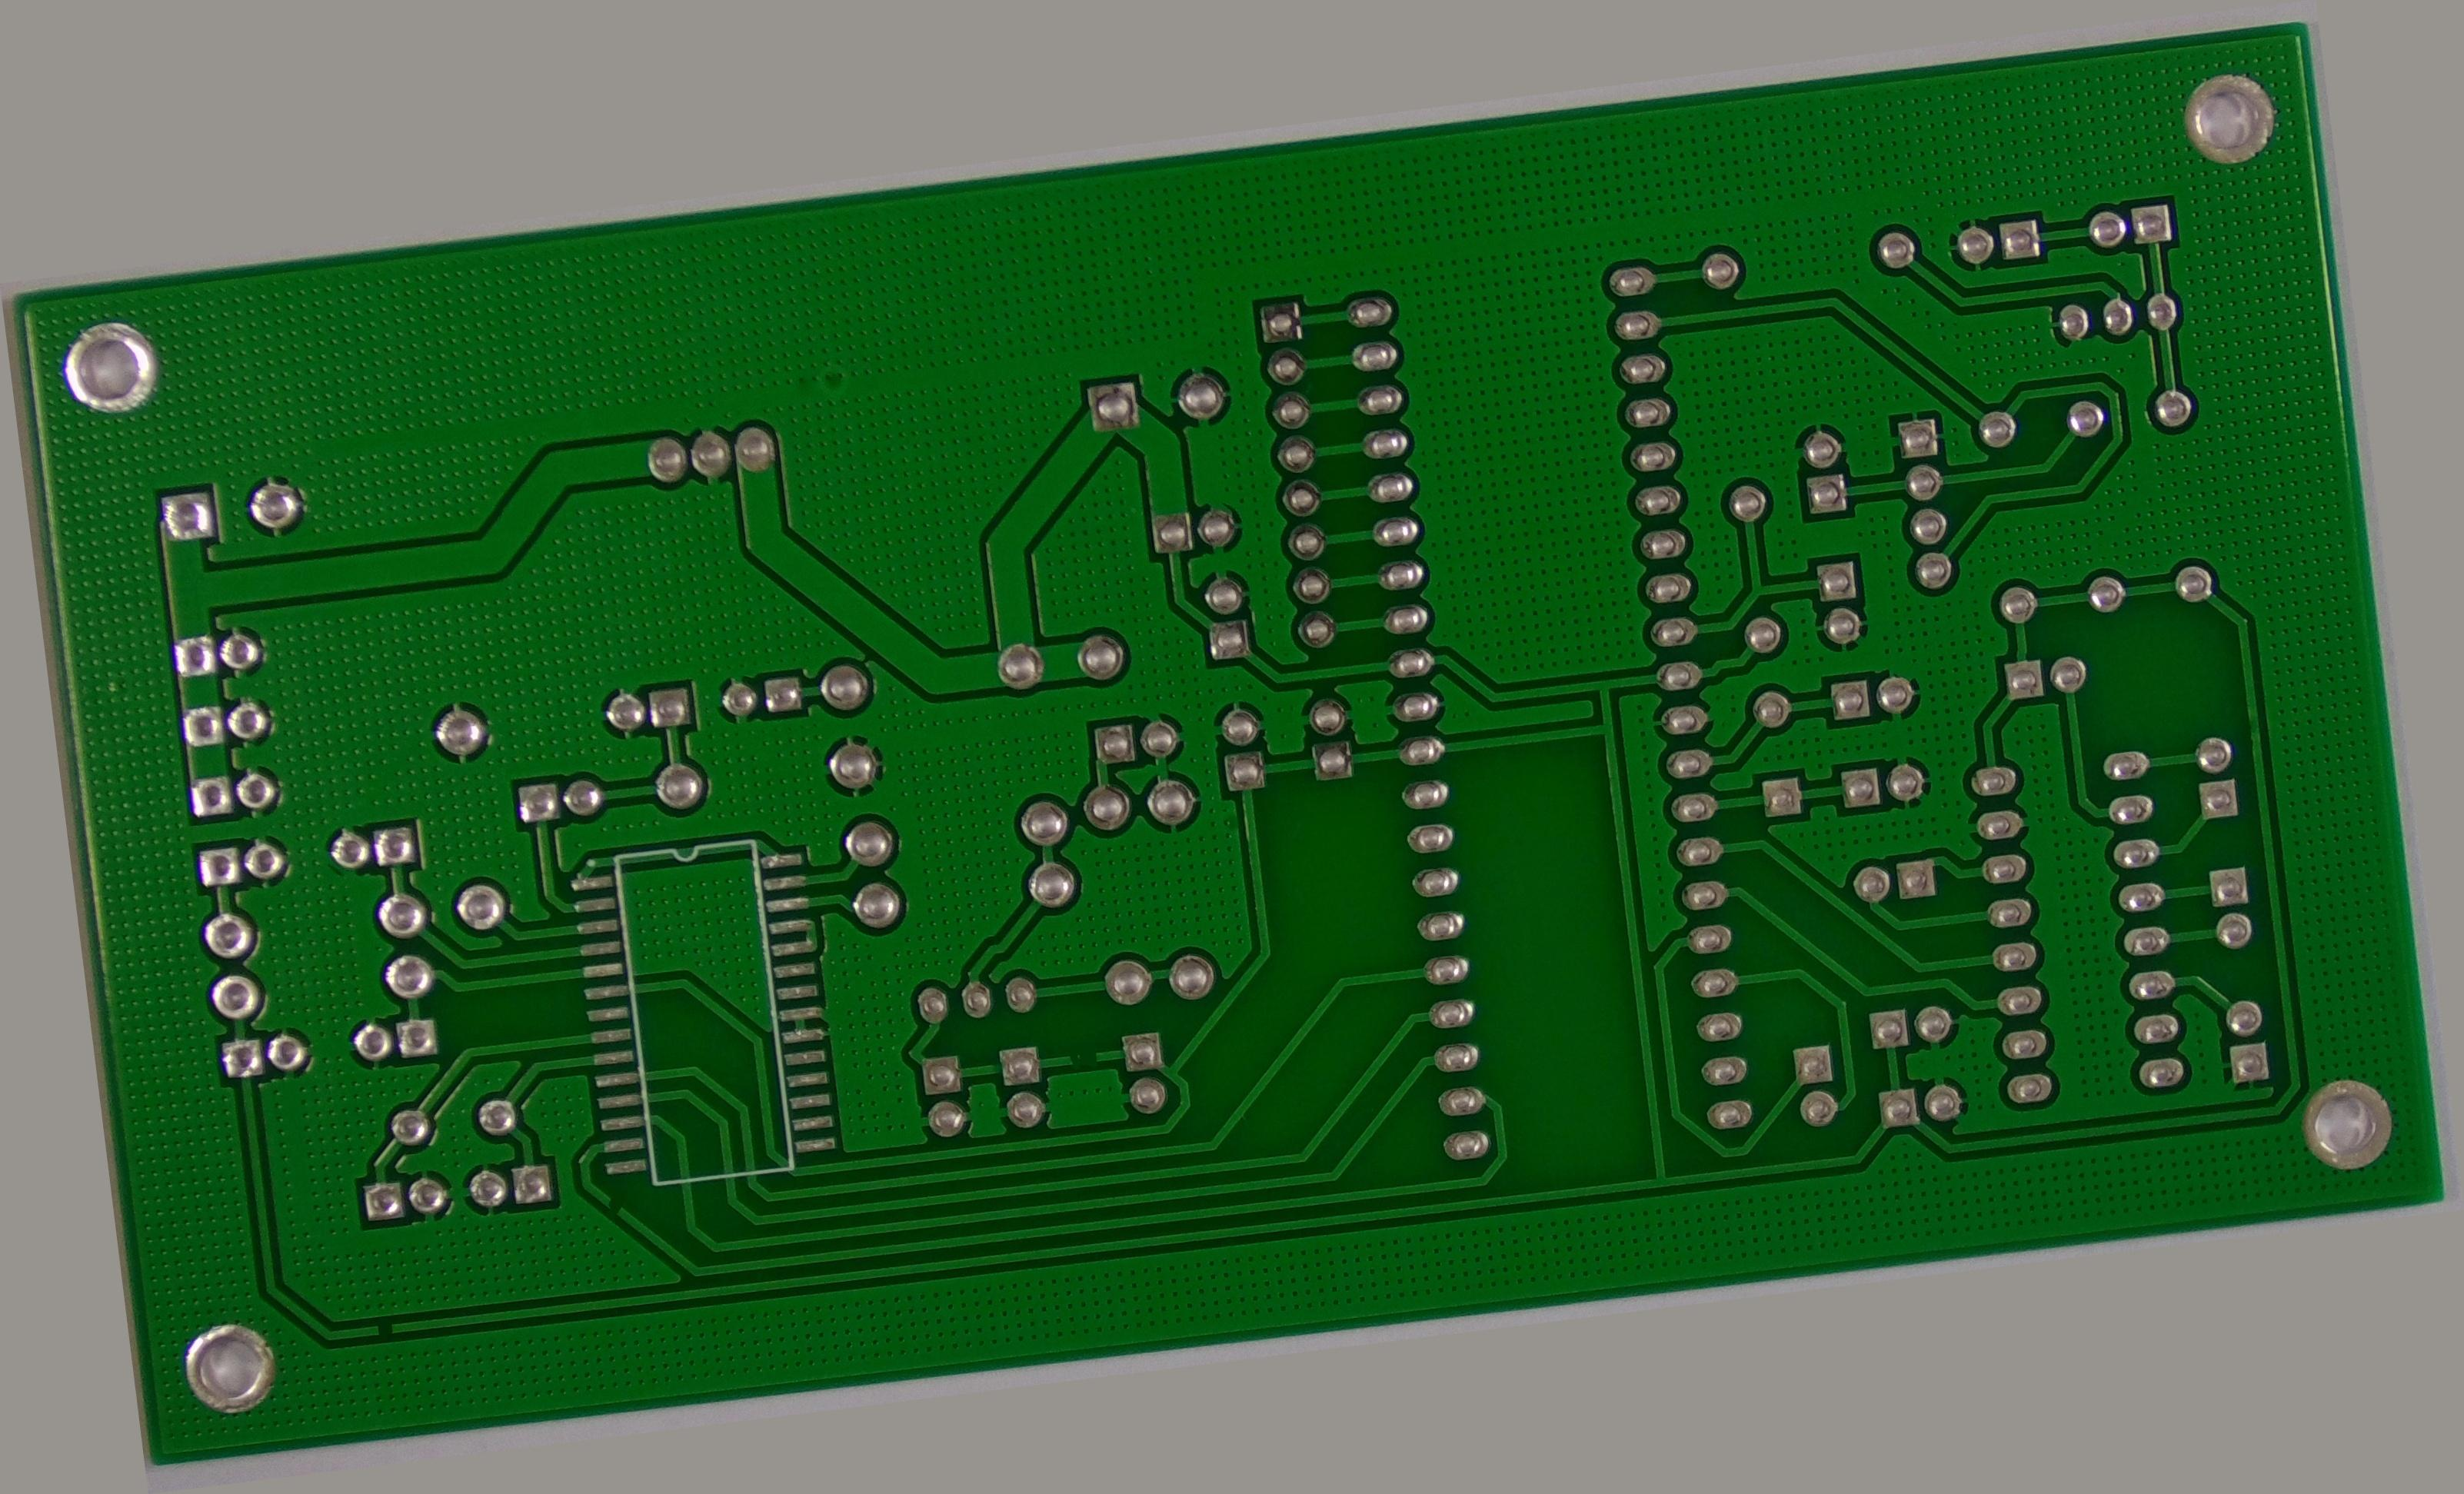open_circuit: (1014, 1086, 1056, 1117), (509, 1198, 540, 1234), (253, 1315, 283, 1343)
